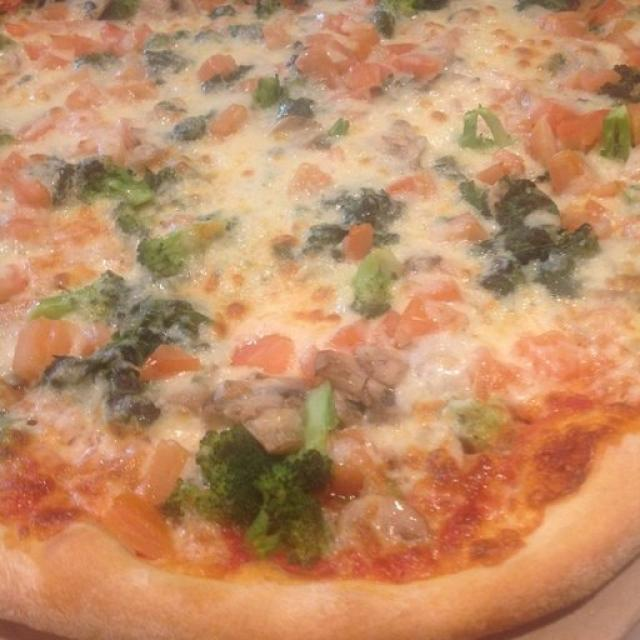Basil: (56, 294, 198, 423), (462, 177, 598, 301), (340, 186, 395, 229), (154, 33, 189, 83), (250, 76, 290, 106), (178, 112, 209, 142), (272, 100, 314, 118), (98, 0, 140, 18), (252, 2, 273, 20)
Mushrooms: (217, 378, 300, 448), (324, 355, 408, 416)
